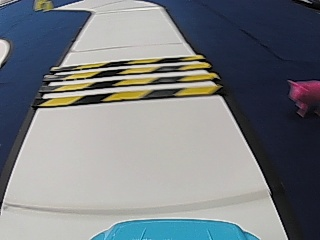bump: (63, 57, 193, 103)
